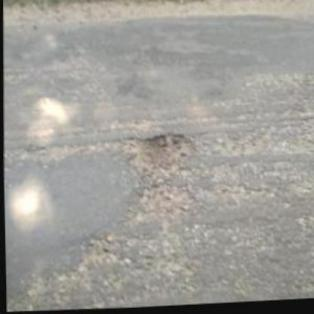Hueco: (122, 130, 197, 181)
